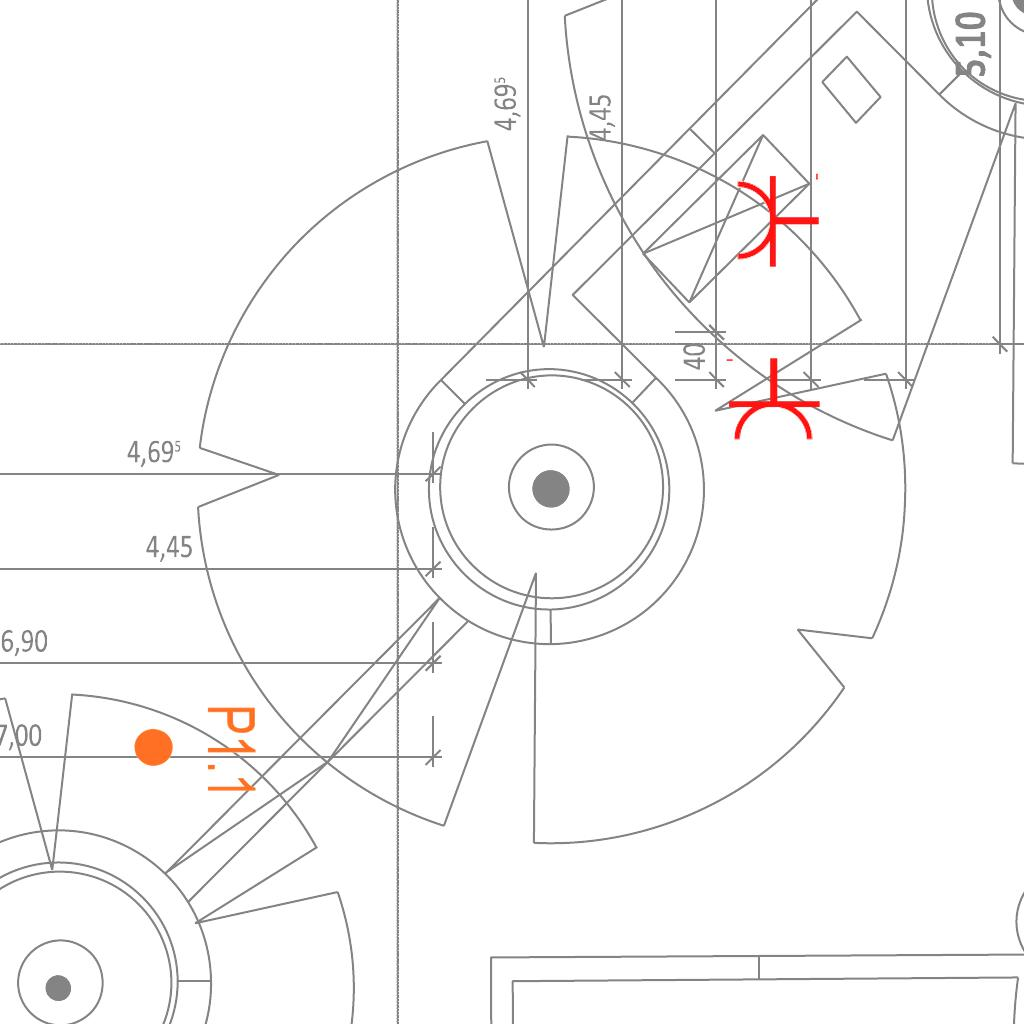Downlight_LED_Einbauleuchten_Flur: (131, 704, 259, 797)
Schukosteckdose_einfach: (734, 169, 821, 269), (722, 356, 822, 443)
